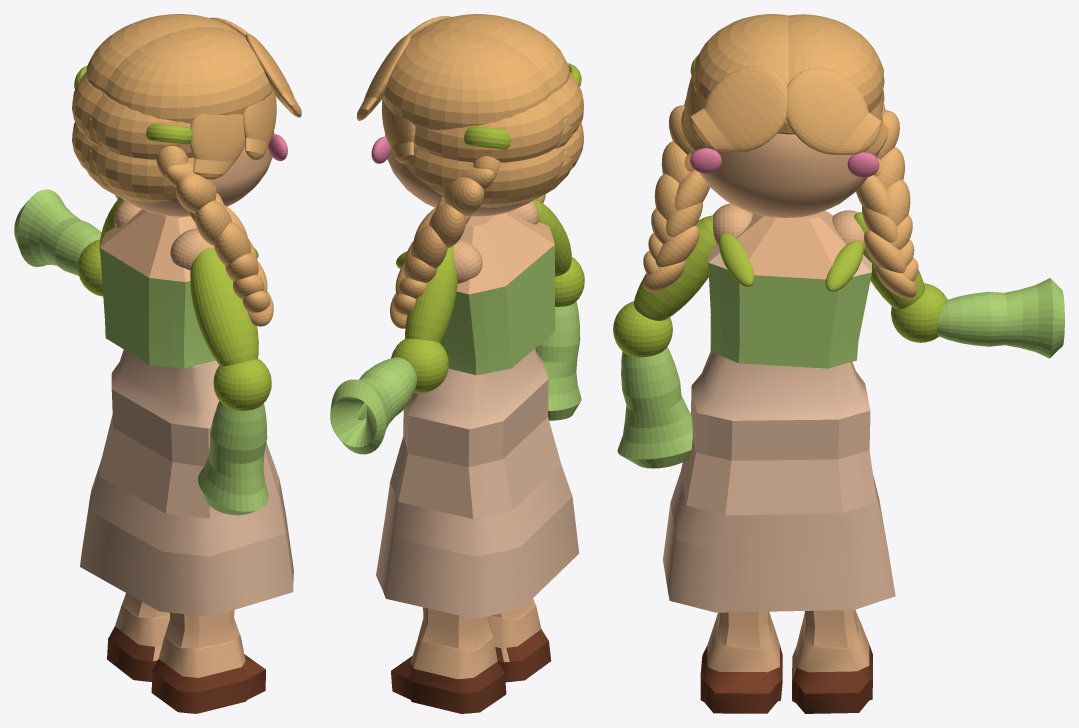
File: tall plats 1.fbx
3 renders of one model, left to right at view 1: azimuth 30°, elevation 25°; view 2: azimuth 150°, elevation 25°; view 3: azimuth 270°, elevation 25°, orthographic. The views are drawn at different scales.
Parts seen in each view (by area): view 1: trousers.005, Sphere.118, Cube.022, Sphere.129, Sphere.121, Sphere.124, Sphere.115, Sphere.123, Cube.026, Cube.021, Cube.025, Sphere.120 (+9 smaller); view 2: trousers.005, Sphere.118, Sphere.129, Cube.022, Sphere.121, Sphere.123, Cube.021, Cube.023, Cube.028, Sphere.124, Sphere.128, Sphere.127 (+9 smaller); view 3: trousers.005, Cube.022, Sphere.121, Sphere.119, Sphere.118, Sphere.114, Sphere.123, Sphere.124, Cube.021, Cube.023, Cube.026, Cube.025 (+9 smaller).
Boxes of the visible parts, <box> form: trousers.005: <box>80,349,293,616</box>; Sphere.118: <box>86,14,272,123</box>; Cube.022: <box>100,248,215,368</box>; Sphere.129: <box>72,72,194,202</box>; Sphere.121: <box>115,146,273,326</box>; Sphere.124: <box>198,401,268,515</box>; Sphere.115: <box>190,248,258,366</box>; Sphere.123: <box>14,189,101,275</box>; Cube.026: <box>158,610,245,677</box>; Cube.021: <box>100,209,196,281</box>; Cube.025: <box>151,654,265,713</box>; Sphere.120: <box>190,113,245,179</box>; trousers.005: <box>376,348,579,618</box>; Sphere.118: <box>382,14,569,129</box>; Sphere.129: <box>405,72,583,207</box>; Cube.022: <box>440,244,555,375</box>; Sphere.121: <box>390,113,583,328</box>; Sphere.123: <box>330,357,417,454</box>; Cube.021: <box>456,210,554,294</box>; Cube.023: <box>410,607,497,679</box>; Cube.028: <box>391,656,506,713</box>; Sphere.124: <box>535,301,581,420</box>; Sphere.128: <box>405,246,457,343</box>; Sphere.127: <box>391,338,448,393</box>; trousers.005: <box>663,352,895,612</box>; Cube.022: <box>708,263,871,368</box>; Sphere.121: <box>643,99,918,298</box>; Sphere.119: <box>690,66,881,154</box>; Sphere.118: <box>692,14,884,134</box>; Sphere.114: <box>689,133,878,217</box>; Sphere.123: <box>937,278,1064,358</box>; Sphere.124: <box>617,347,692,468</box>; Cube.021: <box>720,210,846,279</box>; Cube.023: <box>792,610,869,680</box>; Cube.026: <box>707,611,779,672</box>; Cube.025: <box>700,645,782,713</box>.
Size of the model in its own units: 223 by 755 by 466.
